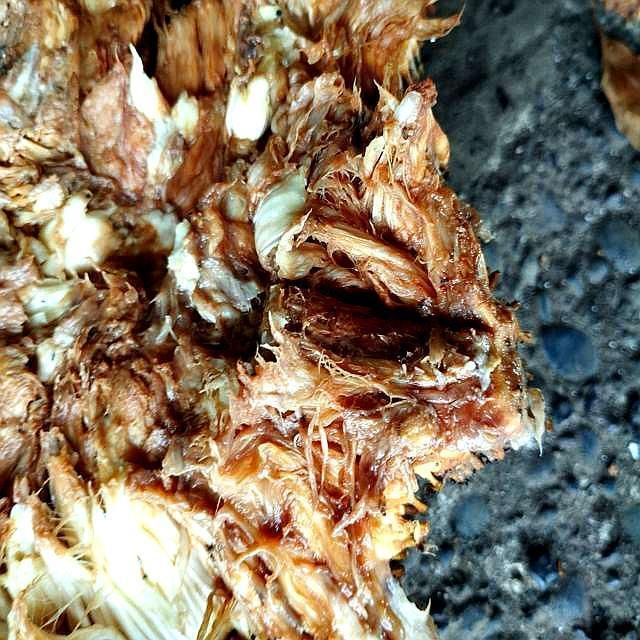Biodegradable: (1, 1, 511, 640)
